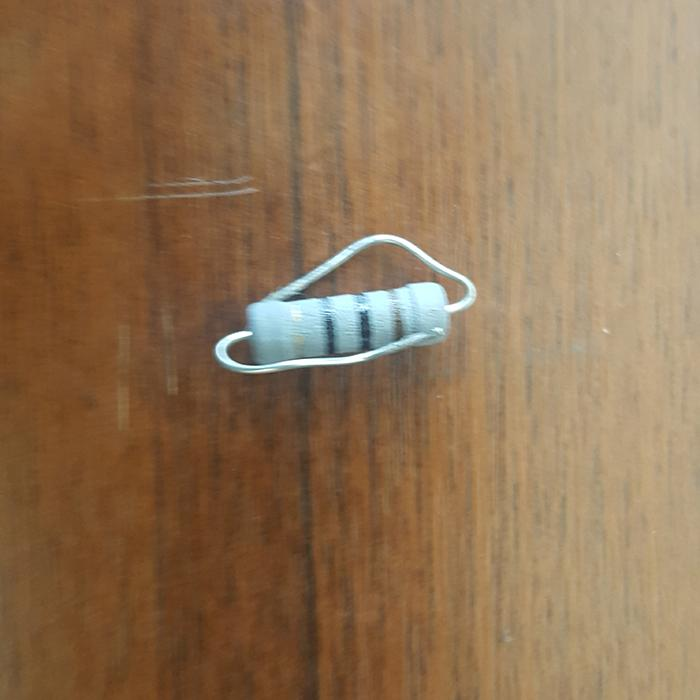resistor: (244, 283, 451, 363)
